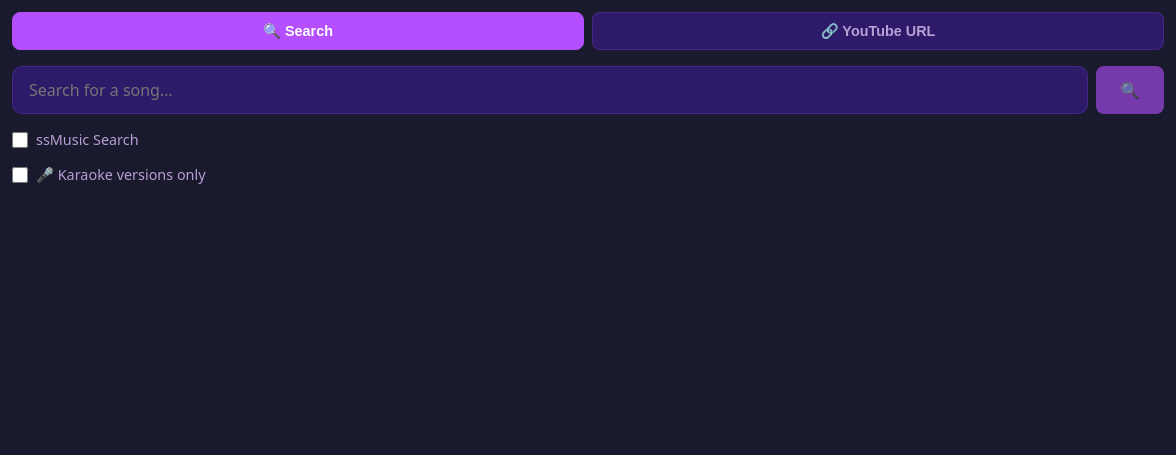
Test: loads additional results using the submitted query rather than unsubmitted edits
Click the checkbox labelled "ssMusic Search": (20, 140) [12,132,28,148]
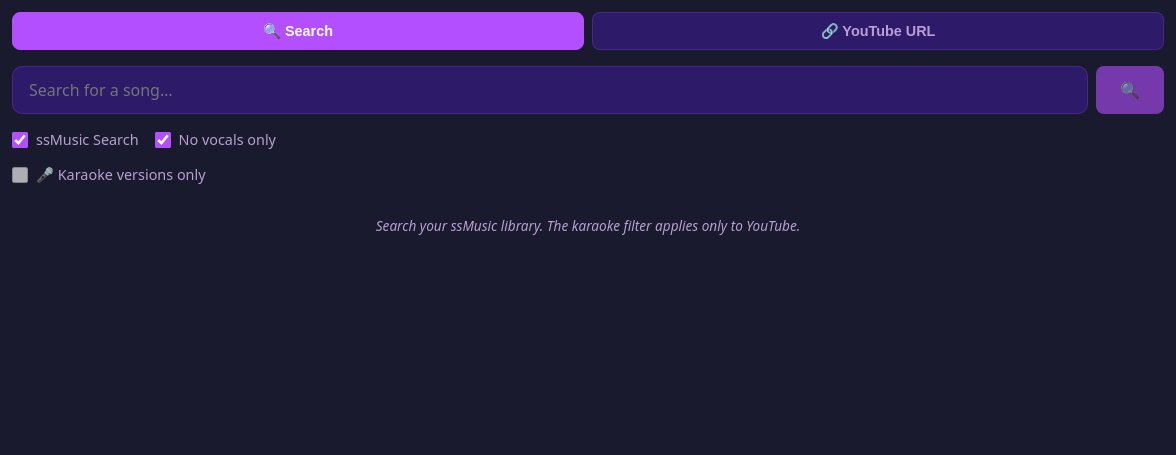
In the field with placeholder "Search for a song…": (550, 90) [12,66,1088,114], type "song"
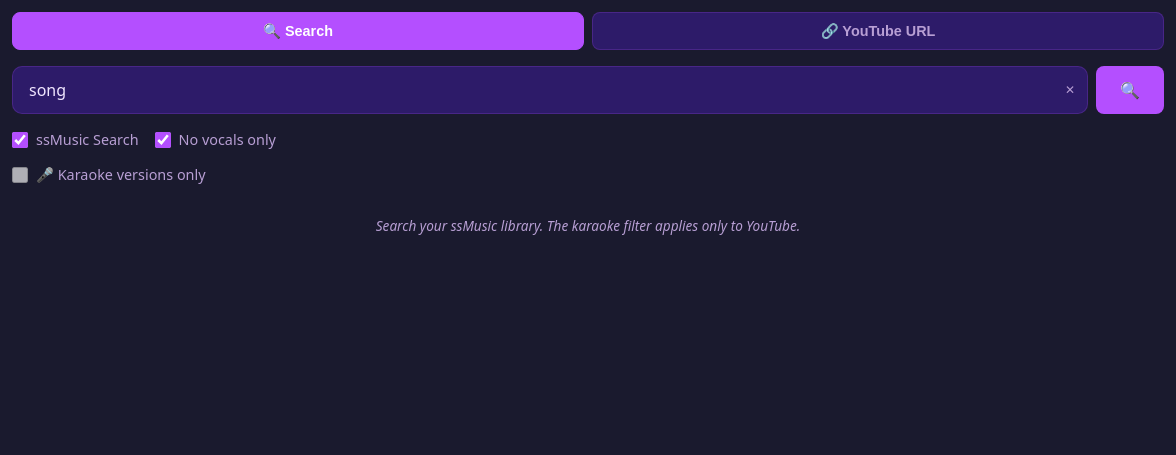
Submit the form, box [12,66,1164,114]
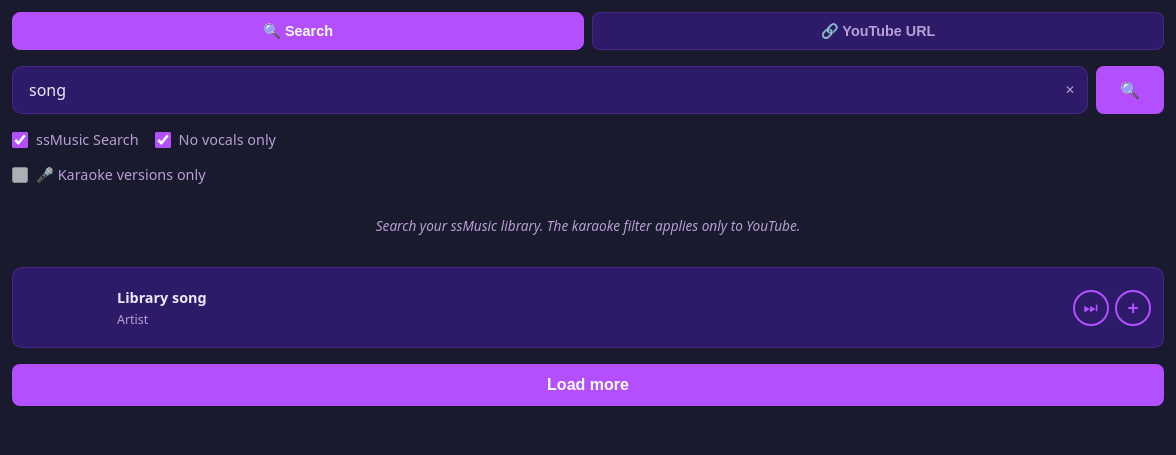
Replace the text in the field with "new draft": (550, 90) [12,66,1088,114]
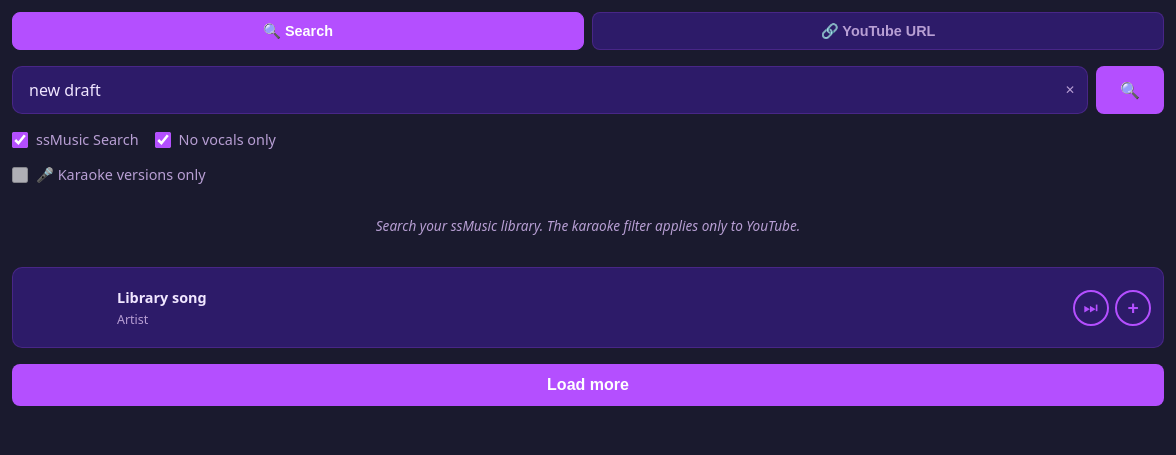
Click the button "Load more": (588, 385) [12,364,1164,406]
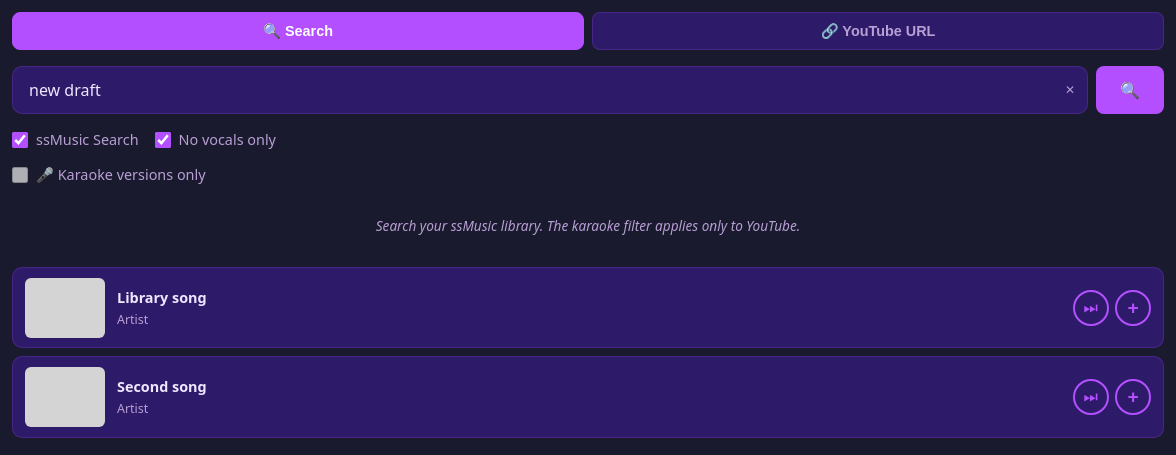
Expected: the number of list items with class "search-result-item" is 2, [12,267,1164,348]; [12,356,1164,438]
Expected: the text "Load more" is gone
